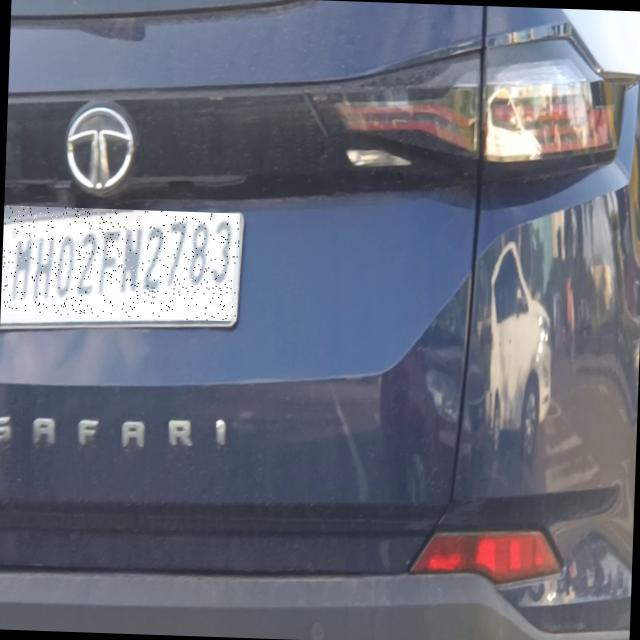Plate: (1, 206, 241, 322)
